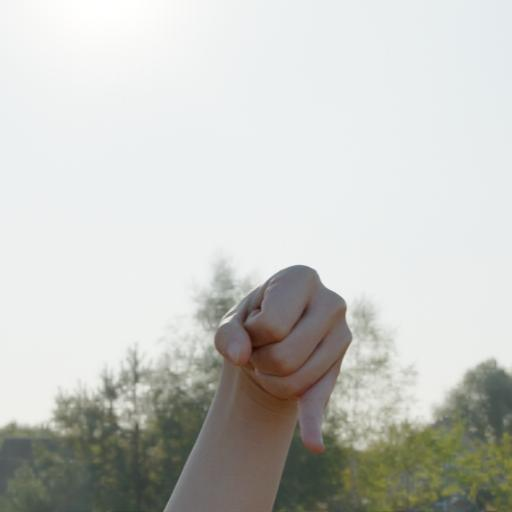J: (209, 260, 353, 458)
